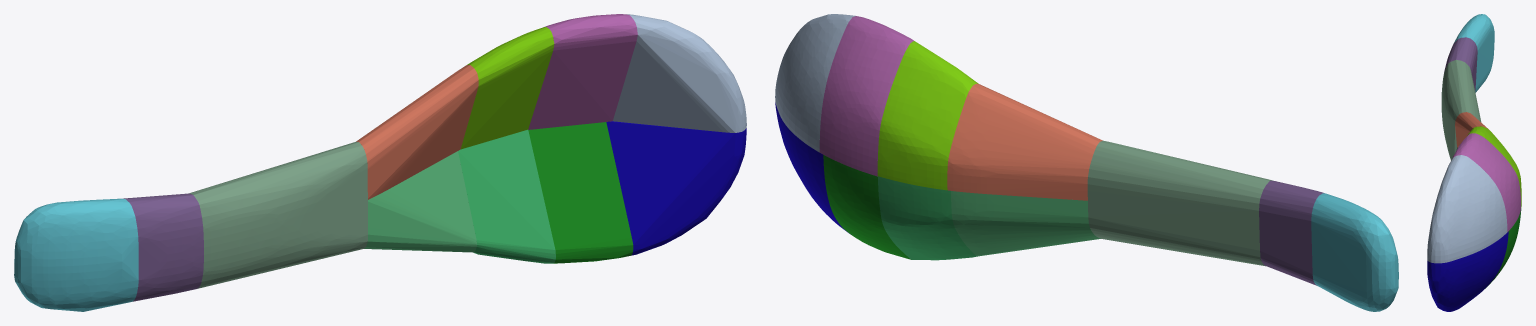
The model's file is coacd_collision.obj.
3 renders of one model, left to right at view 1: azimuth 30°, elevation 25°; view 2: azimuth 150°, elevation 25°; view 3: azimuth 270°, elevation 25°, orthographic. The views are drawn at different scales.
Visible parts, largest first — view 1: geometry_0, geometry_2, geometry_5, geometry_6, geometry_8, geometry_10, geometry_7, geometry_9, geometry_3, geometry_4, geometry_1; view 2: geometry_0, geometry_9, geometry_4, geometry_7, geometry_2, geometry_3, geometry_6, geometry_10, geometry_1, geometry_8, geometry_5; view 3: geometry_6, geometry_5, geometry_7, geometry_0, geometry_2, geometry_1, geometry_4, geometry_9, geometry_8.
Boxes of the visible parts, x1,y1,x2,y2 form: geometry_0: (188, 141, 367, 288); geometry_2: (14, 198, 138, 311); geometry_5: (606, 121, 746, 255); geometry_6: (613, 14, 746, 132); geometry_8: (528, 122, 633, 263); geometry_10: (458, 129, 555, 263); geometry_7: (528, 14, 637, 129); geometry_9: (356, 65, 478, 199); geometry_3: (364, 151, 476, 252); geometry_4: (461, 27, 554, 149); geometry_1: (123, 193, 203, 301); geometry_0: (1087, 140, 1273, 266); geometry_9: (947, 83, 1102, 200); geometry_4: (877, 41, 978, 190); geometry_7: (819, 16, 913, 176); geometry_2: (1311, 193, 1398, 311); geometry_3: (951, 191, 1100, 256); geometry_6: (775, 14, 855, 152); geometry_10: (878, 176, 977, 260); geometry_1: (1259, 180, 1324, 285); geometry_8: (823, 155, 910, 259); geometry_5: (775, 102, 849, 233); geometry_6: (1427, 155, 1507, 263); geometry_5: (1427, 231, 1508, 311); geometry_7: (1452, 133, 1520, 231); geometry_0: (1441, 60, 1481, 160); geometry_2: (1453, 14, 1494, 92); geometry_1: (1444, 37, 1477, 90); geometry_4: (1467, 126, 1521, 207); geometry_9: (1455, 112, 1488, 147); geometry_8: (1485, 210, 1520, 288).
Size of the model in its own units: 140 by 46.42 by 25.22.
